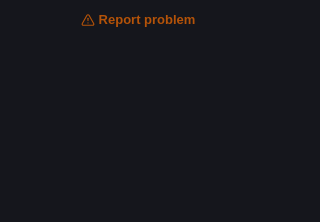
DishProblemButton › sends the reason and note to the manager
The image size is (320, 222).
Click the button "Report problem" at (138, 20), box [81,12,195,27]
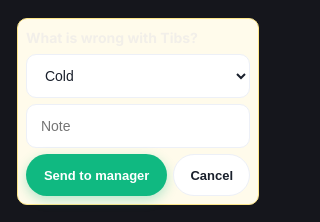
Select "Foreign object" in the dropdown named "Report problem" at (138, 76), box [26,54,250,98]
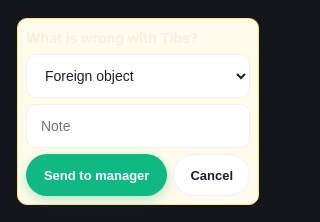
Type "hair" into the field labelled "Note" at (138, 126), box [26,104,250,148]
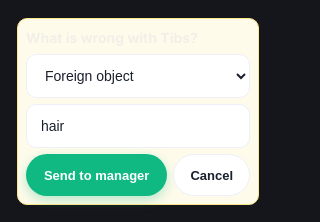
Submit the form "What is wrong with Tibs?"
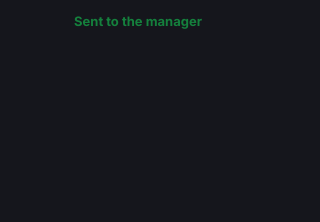
Result: the text "Sent to the manager" is shown at [74,12,202,32]
